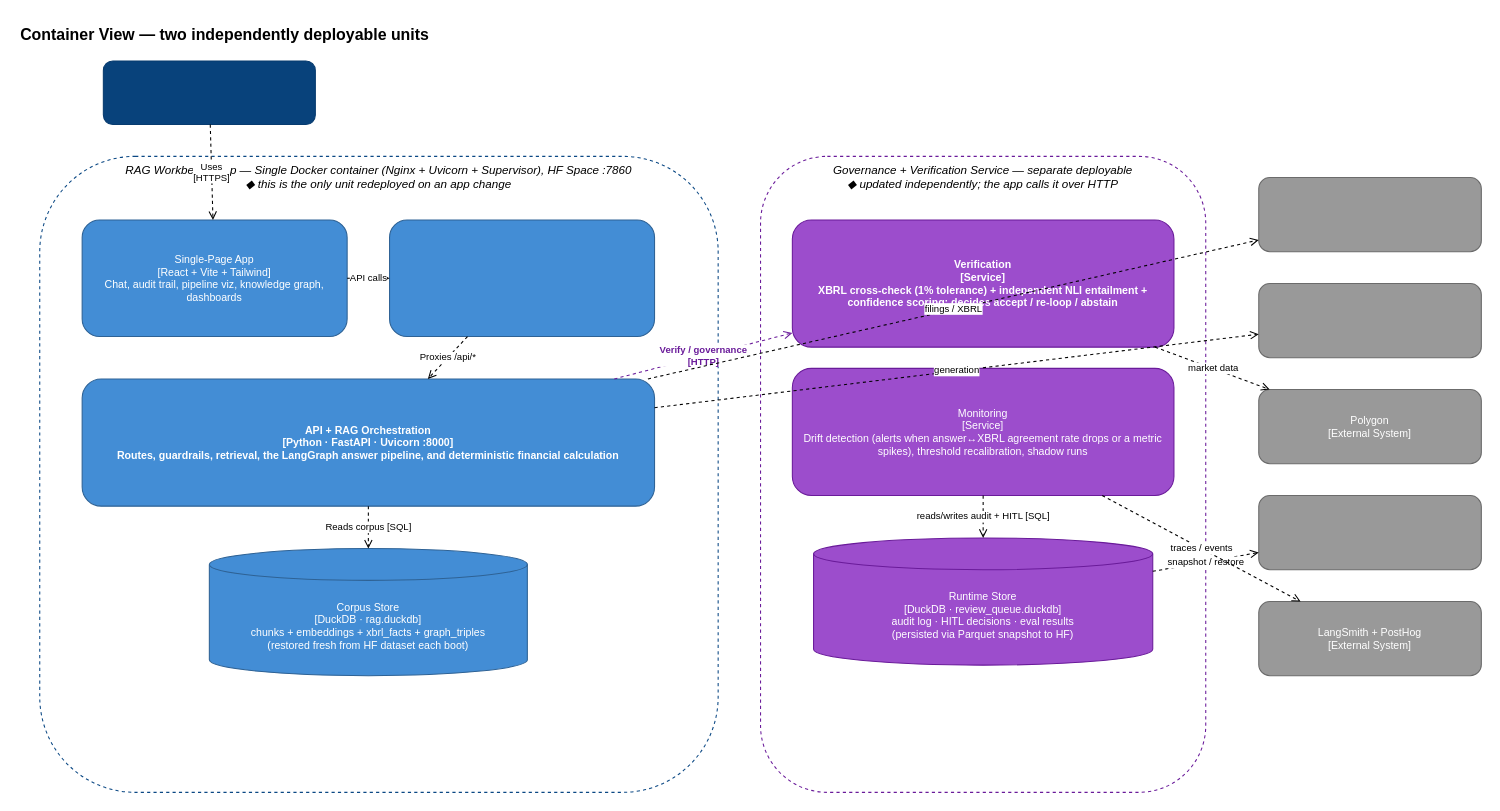
Image size: 1500x811. Some labels were removed from this diagram. The shapes that lost their labels are listed below. From the top down, each one's centre as x and y in pixels, then its label:
the point at 208,92: Financial Analyst [Person]
the point at 1369,214: SEC EDGAR [External System]
the point at 521,278: Reverse Proxy [Nginx] Serves the SPA, proxies /api/* to the API, port 7860
the point at 1369,320: LLM Providers [External System]
the point at 1369,532: HF Dataset [External System]
